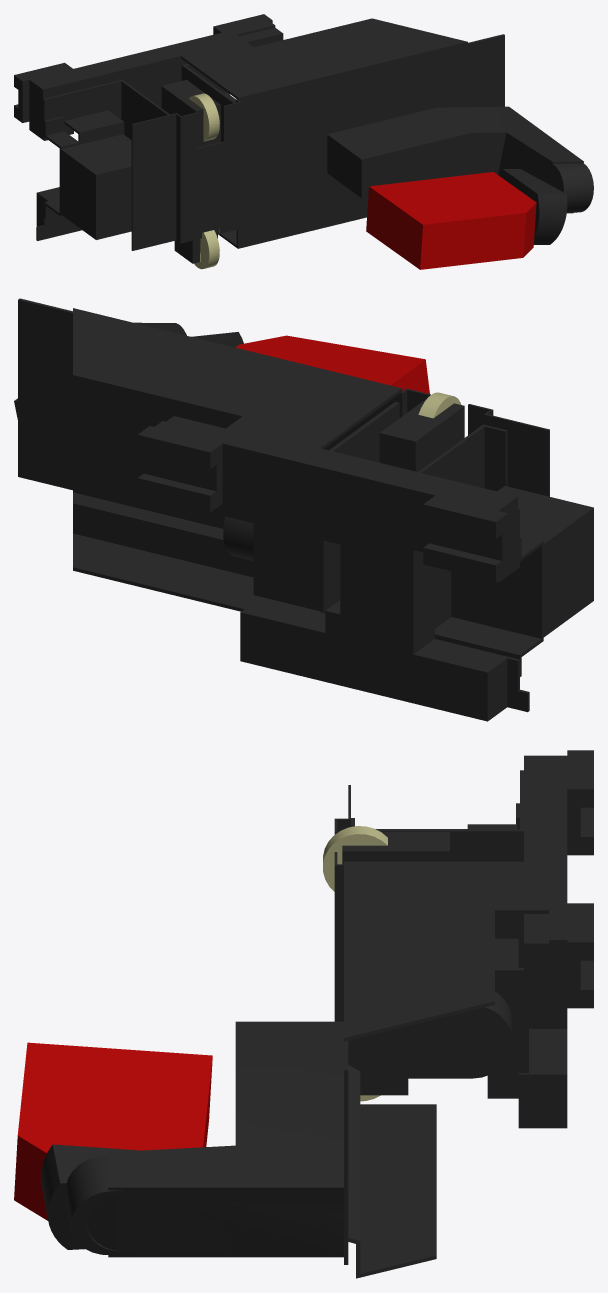
Rendered from autoload_sled.glb.
3 views of the same model, one above another, from view 1: azimuth 30°, elevation 25°; view 2: azimuth 150°, elevation 25°; view 3: azimuth 270°, elevation 25° (orthographic). The views are drawn at different scales.
Parts seen in each view (by area): view 1: autoload_sled; view 2: autoload_sled; view 3: autoload_sled.
Part boxes in pixels (box(x1,y1,x2,y2)): autoload_sled: box(14, 14, 593, 269); autoload_sled: box(14, 298, 593, 721); autoload_sled: box(14, 750, 593, 1278).
Bounding box in the file's own units: 0.2809 × 0.1095 × 0.2153.
